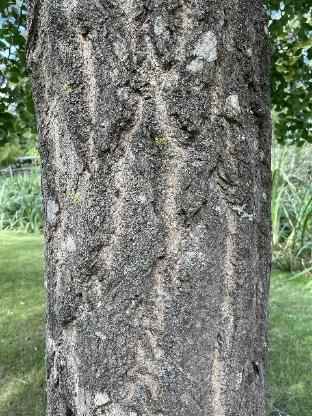tree: (16, 0, 276, 416)
